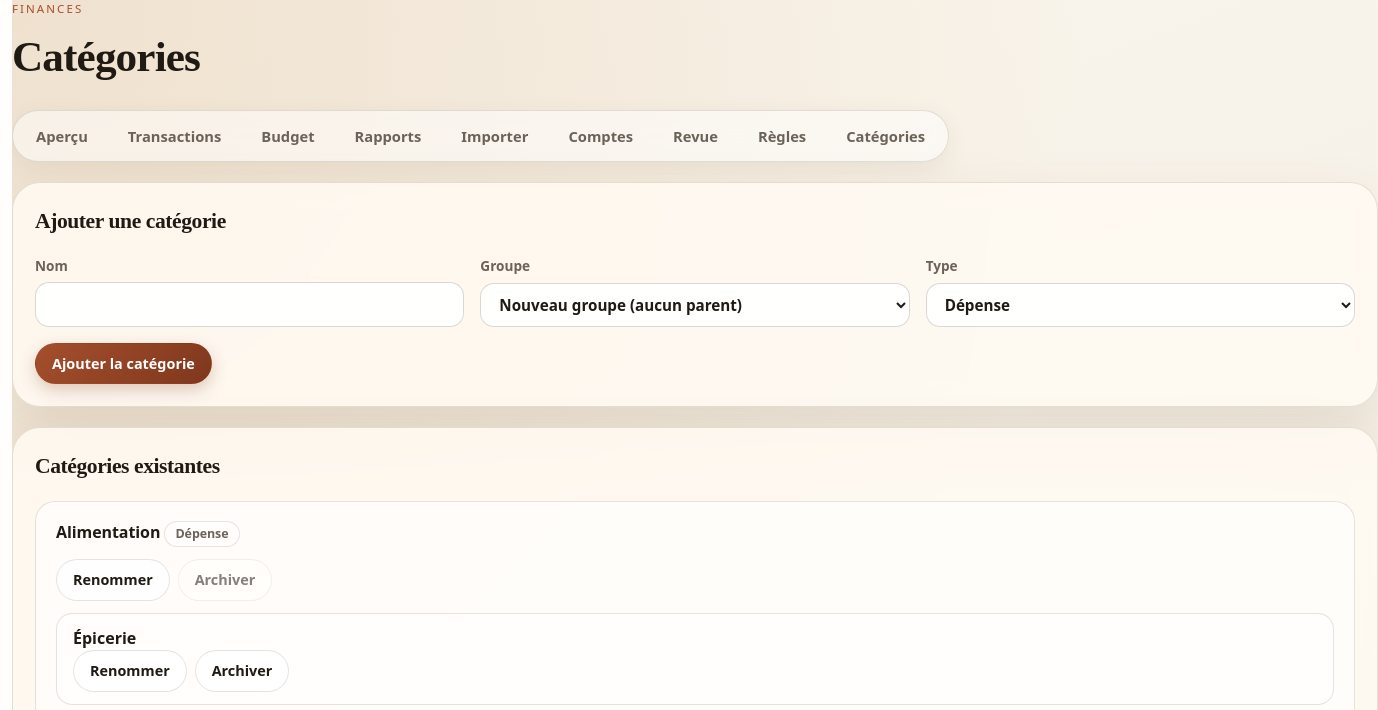
Test case: FinanceCategoriesPage › adds a category under an existing group, inheriting its kind
Expected: the heading "Alimentation Dépense" is shown, left=56, top=521, right=240, bottom=547
Type "Café" into the field labelled "Nom" at (250, 304), box left=35, top=282, right=464, bottom=327
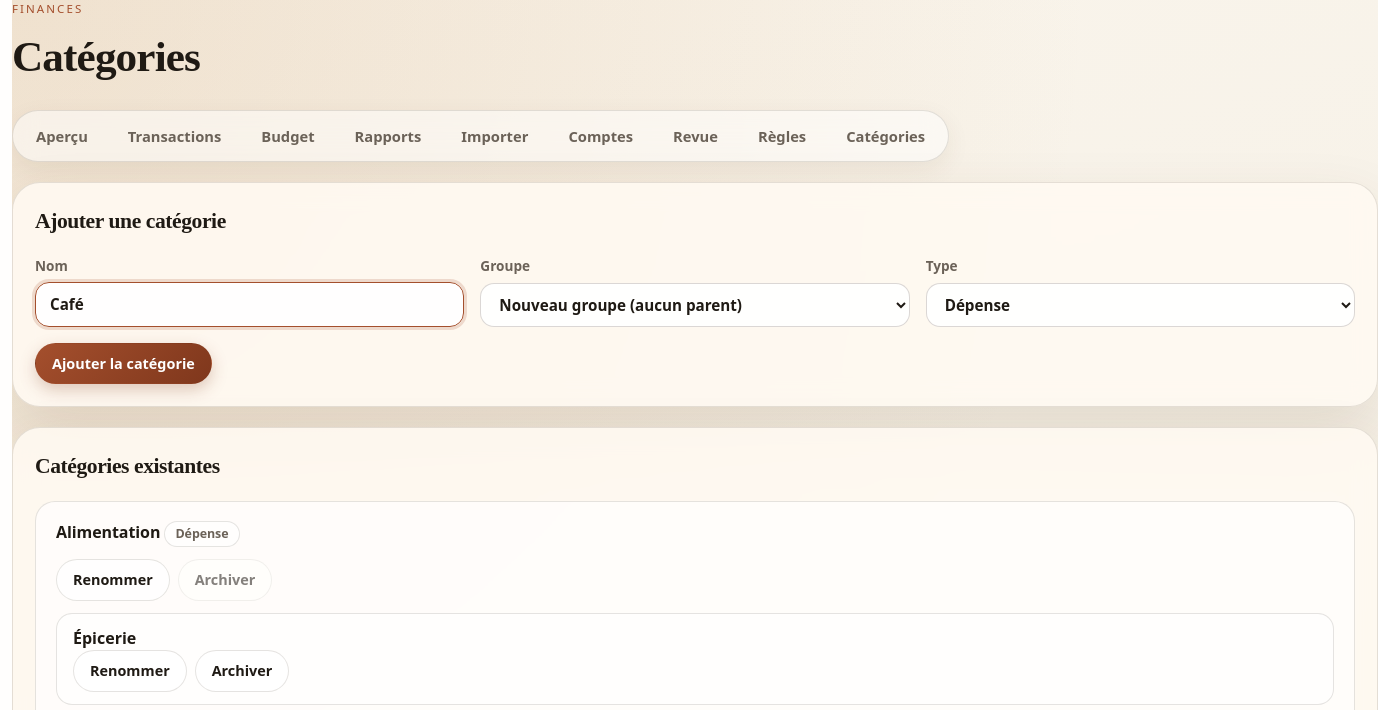
Select "Alimentation" in the dropdown labelled "Groupe" at (695, 305), box left=480, top=283, right=910, bottom=327
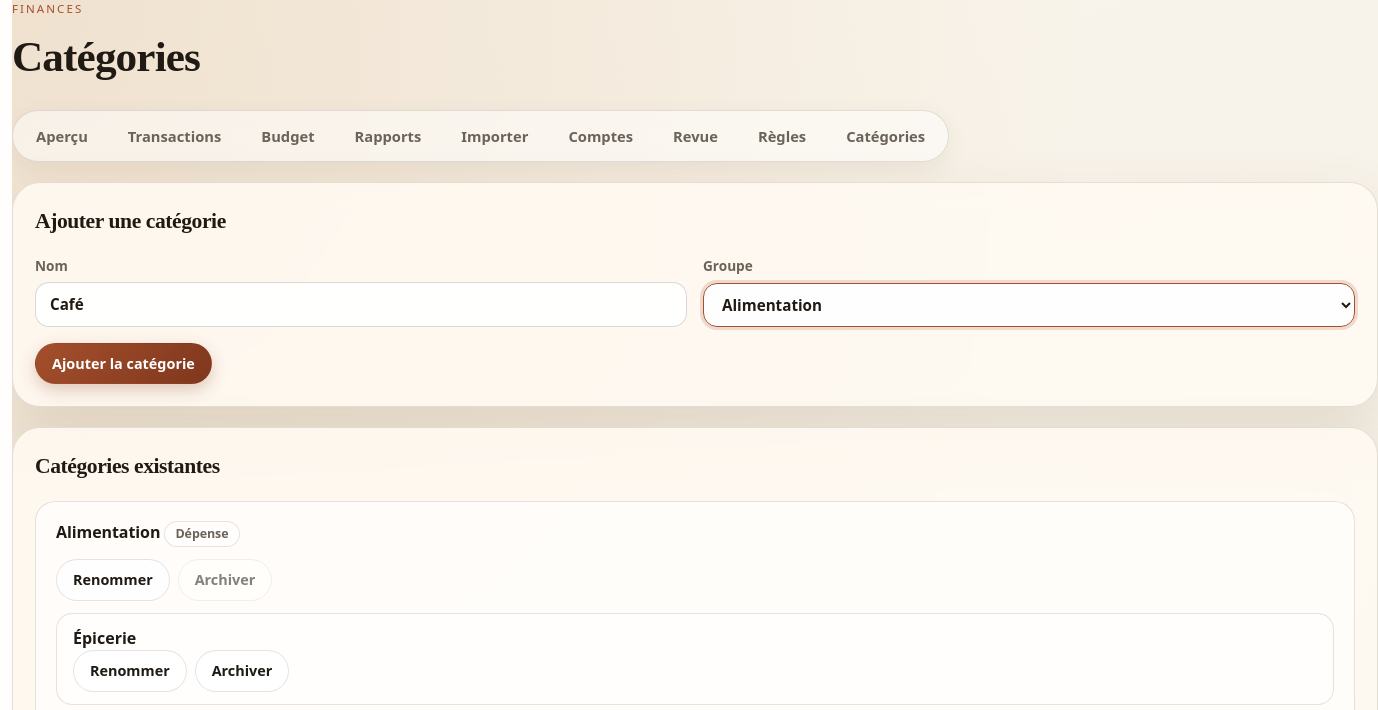
Click the button "Ajouter la catégorie" at (123, 364), box left=35, top=343, right=212, bottom=384
(page scrolled)
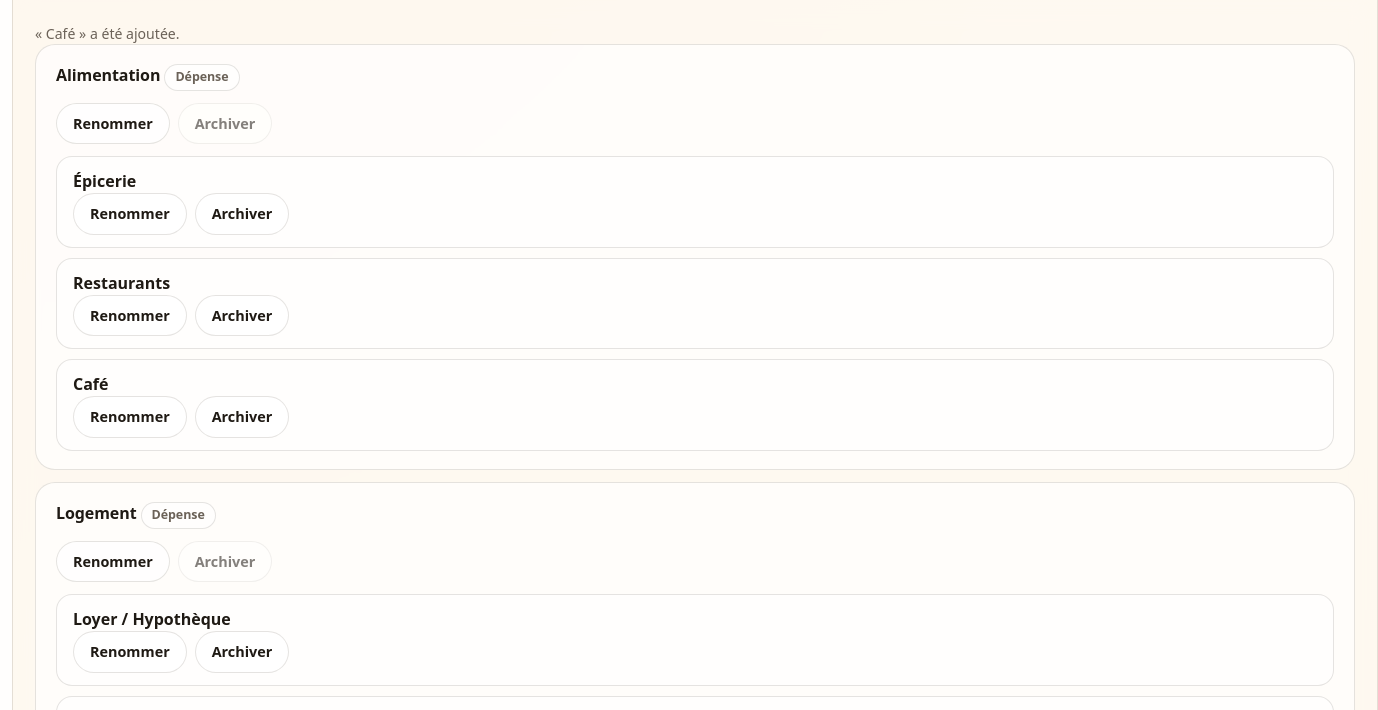
Now the text "Café" is shown, box left=73, top=373, right=108, bottom=395
